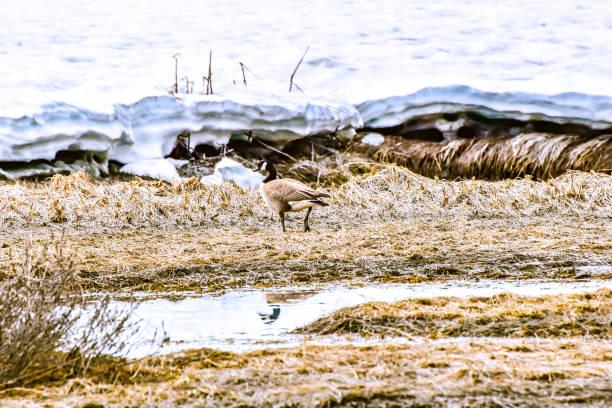Canadian-Goose: (247, 159, 329, 229)
